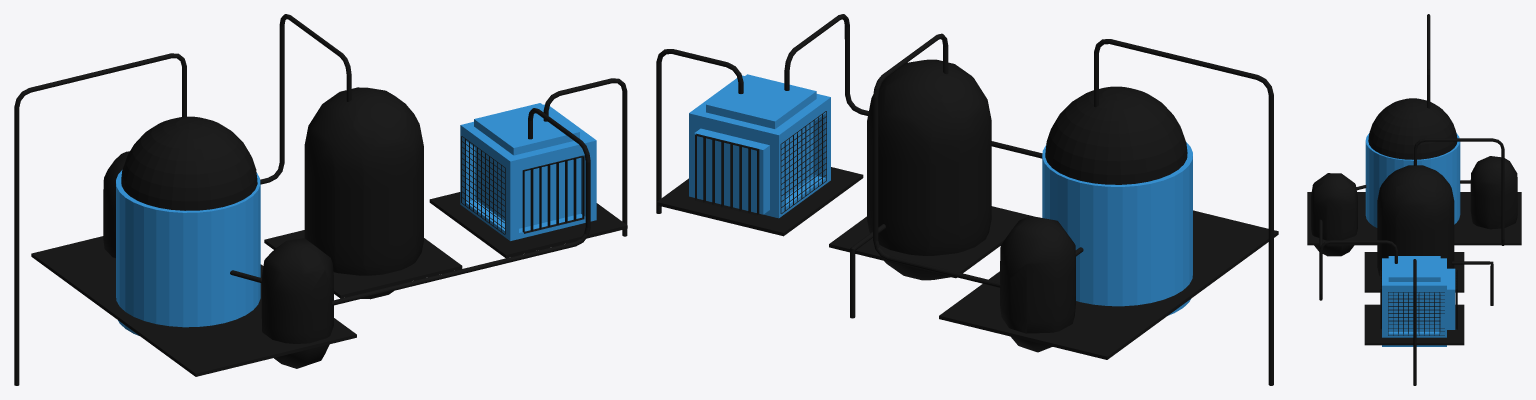
File: dacModelIndustry.fbx
3 views of the same model, side by side, from view 1: azimuth 30°, elevation 25°; view 2: azimuth 150°, elevation 25°; view 3: azimuth 270°, elevation 25° (orthographic). The views are drawn at different scales.
Visible parts, largest first — view 1: Mball, Cylinder, Cube.003, Cube.002, Sphere, Cube.004, Cube, Cube.001, Plane.001, Plane.003; view 2: Mball, Cylinder, Cube.003, Cube.002, Sphere, Cube.004, Cube, Cube.001, Plane.003, Plane; view 3: Mball, Cube.003, Sphere, Cube.002, Cylinder, Cube.004, Cube, Plane.002, Cube.001.
Part boxes in pixels (<box>): Mball: <box>103,87,423,368</box>; Cylinder: <box>116,170,260,335</box>; Cube.003: <box>460,103,596,240</box>; Cube.002: <box>31,236,356,376</box>; Sphere: <box>121,116,257,210</box>; Cube.004: <box>14,14,627,385</box>; Cube: <box>429,192,627,258</box>; Cube.001: <box>264,230,462,298</box>; Plane.001: <box>522,155,584,233</box>; Plane.003: <box>461,136,505,234</box>; Mball: <box>867,59,1075,352</box>; Cylinder: <box>1042,142,1192,315</box>; Cube.003: <box>689,74,830,218</box>; Cube.002: <box>939,210,1278,359</box>; Sphere: <box>1045,86,1187,184</box>; Cube.004: <box>656,14,1273,385</box>; Cube: <box>656,167,863,236</box>; Cube.001: <box>829,206,1035,278</box>; Plane.003: <box>780,111,826,213</box>; Plane: <box>695,133,759,215</box>; Mball: <box>1311,156,1517,276</box>; Cube.003: <box>1382,256,1455,346</box>; Sphere: <box>1368,98,1457,159</box>; Cube.002: <box>1307,192,1521,245</box>; Cylinder: <box>1365,133,1460,227</box>; Cube.004: <box>1319,14,1504,385</box>; Cube: <box>1364,304,1464,345</box>; Plane.002: <box>1388,292,1444,335</box>; Cube.001: <box>1364,252,1464,292</box>.
Size of the model in its own units: 5515 by 2571 by 2608.
